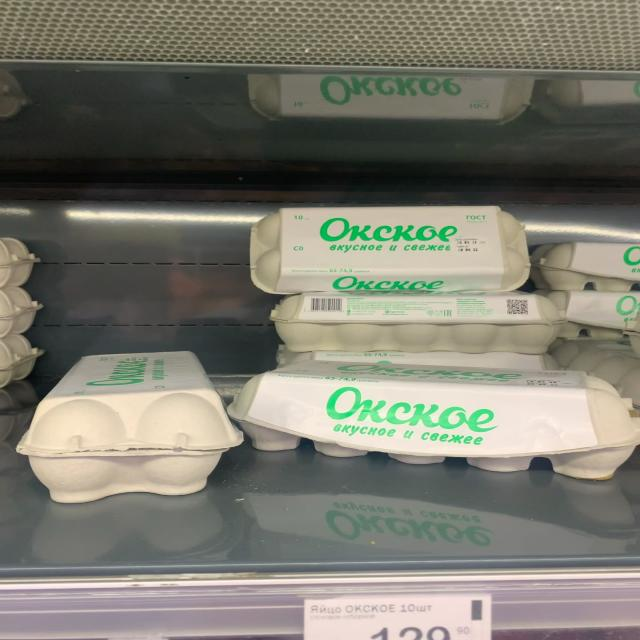egg box: (225, 366, 630, 486), (14, 336, 244, 509), (252, 211, 538, 298)
